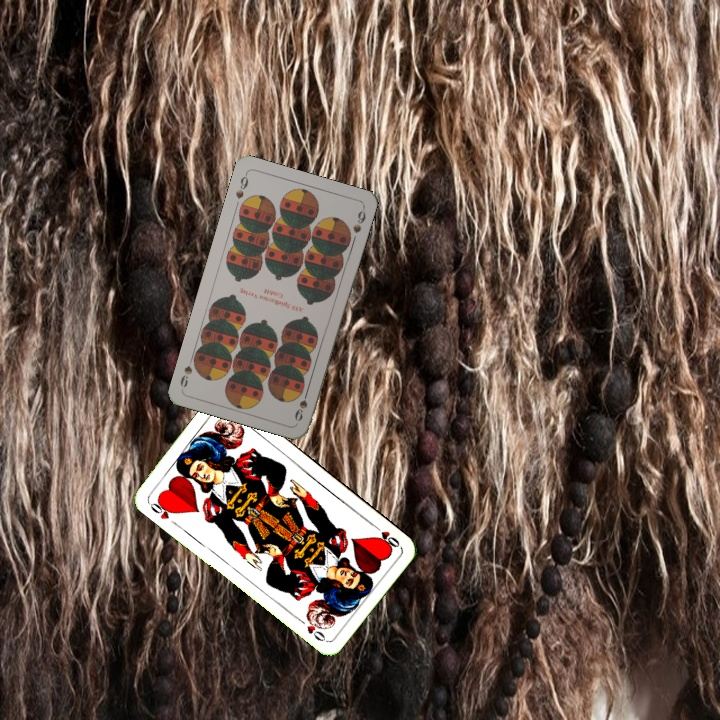HO: (368, 520, 402, 551), (144, 495, 178, 522)
S9: (291, 384, 311, 424), (232, 169, 251, 201)
